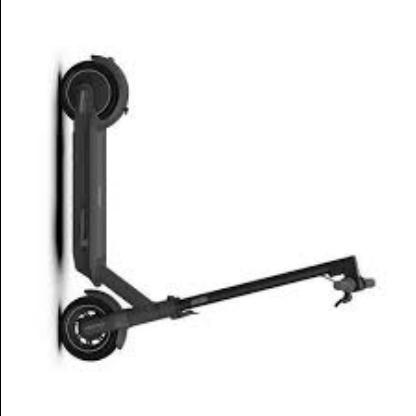bike: (55, 50, 380, 364)
